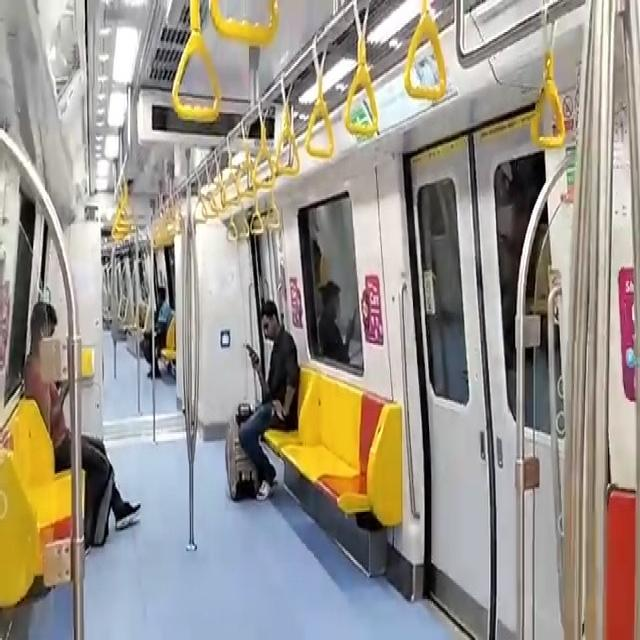bus-door: (410, 116, 545, 638), (525, 207, 561, 638)
